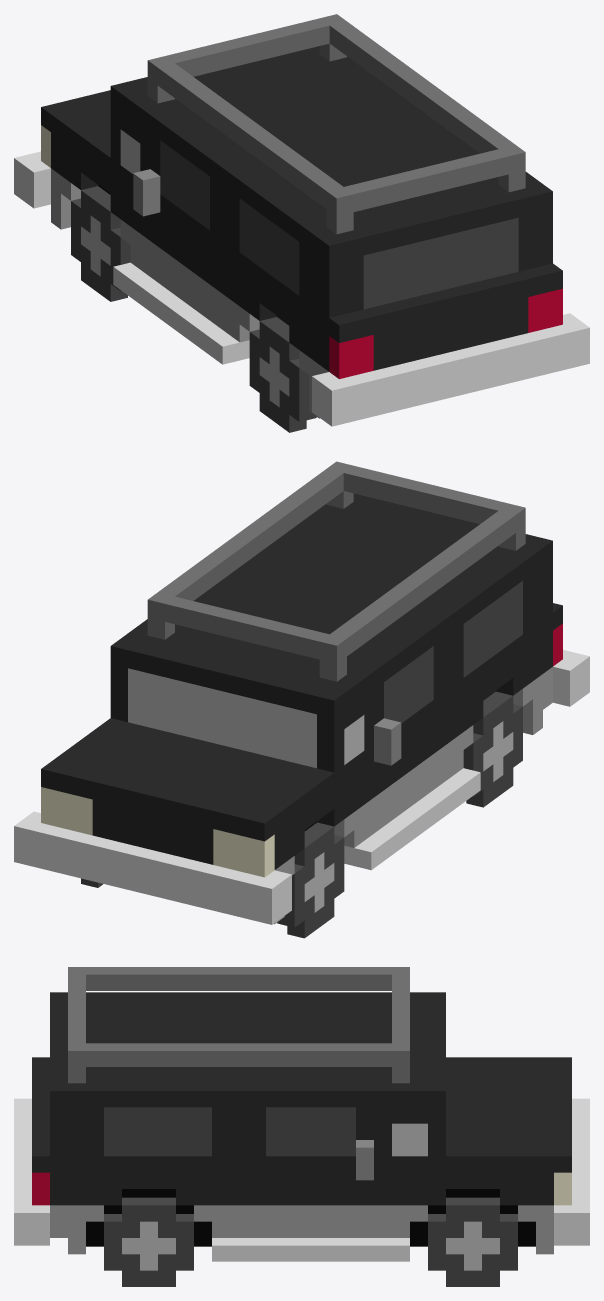
File: car_13.glb
3 renders of one model, top to bottom at view 1: azimuth 30°, elevation 25°; view 2: azimuth 150°, elevation 25°; view 3: azimuth 270°, elevation 25°, orthographic. The views are drawn at different scales.
Parts seen in each view (by area): view 1: ObjObject.001; view 2: ObjObject.001; view 3: ObjObject.001.
Boxes of the visible parts, x1,y1,x2,y2 form: ObjObject.001: [14, 14, 589, 432]; ObjObject.001: [14, 461, 589, 938]; ObjObject.001: [14, 967, 589, 1286].
Size of the model in its own units: 1.5 by 1.4 by 3.2.
Materials: 1 (1 with a texture image).
